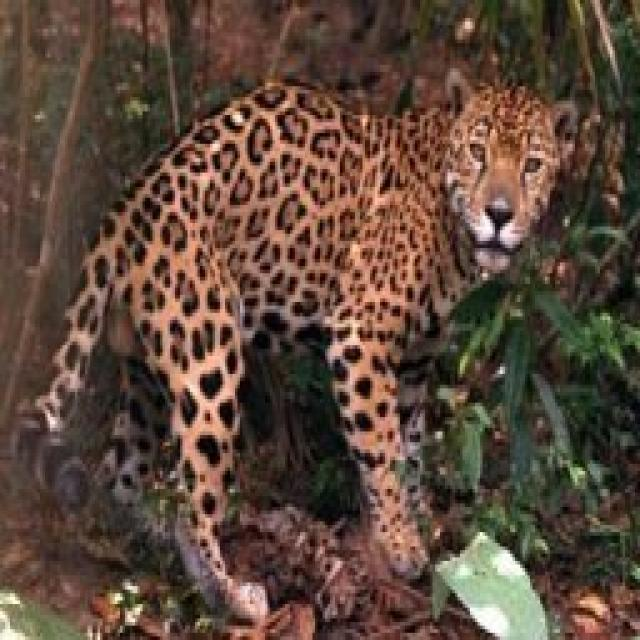Leopard: (10, 54, 578, 618)
